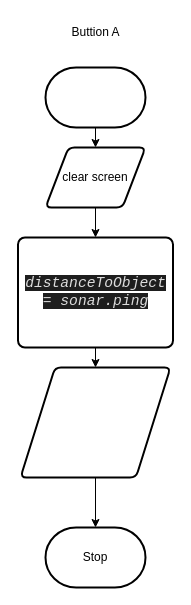
The diagram is 191 pixels wide and 605 high, and some of its shapes have lost their labels. Here are the shapes that lost their labels. From the top down, the centre of each, then its label:
At (95,97): "Start".
At (95,422): "Display distanceToObject display Happy face".
